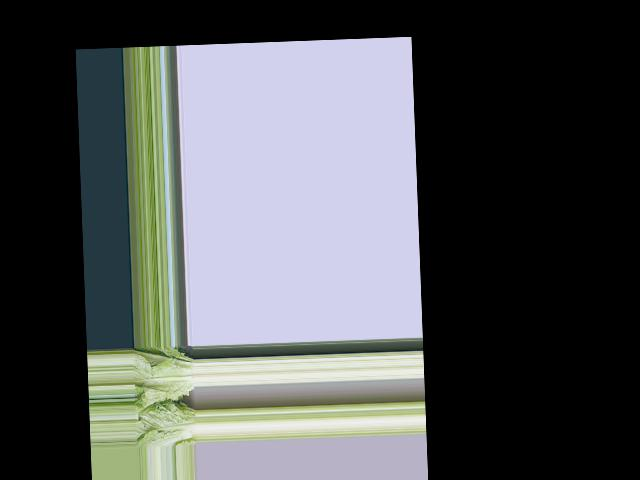lettuce: (138, 403, 197, 444)
